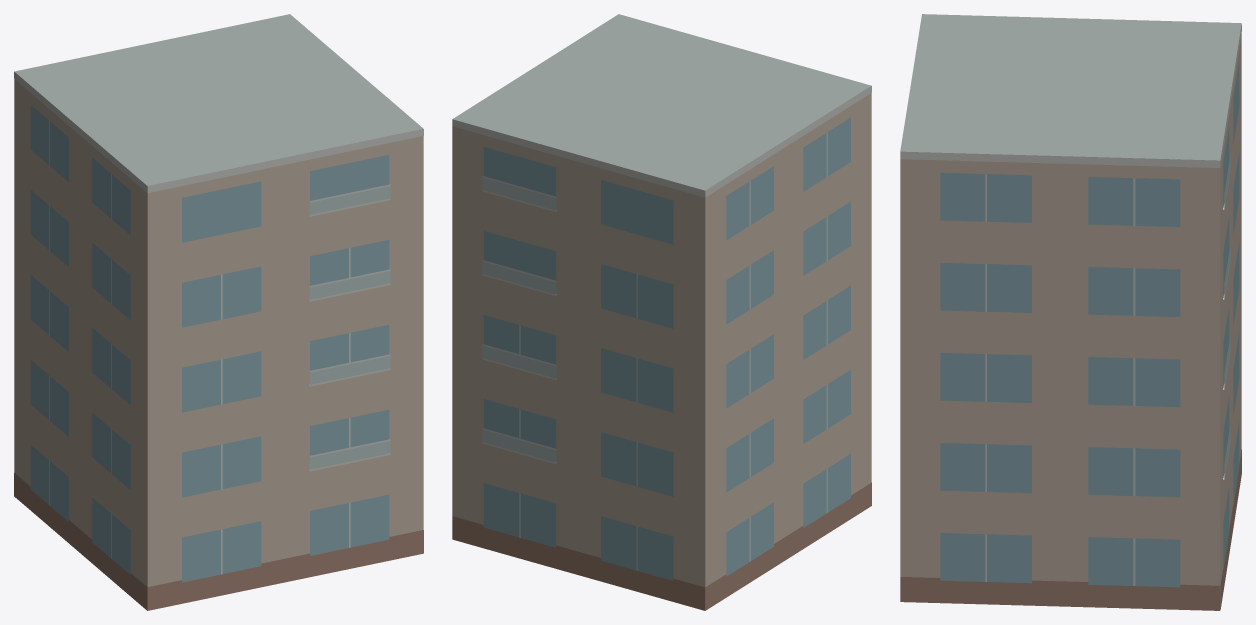
Rendered from survey-upis-32550521.glb.
3 views of the same model, side by side, from view 1: azimuth 30°, elevation 25°; view 2: azimuth 150°, elevation 25°; view 3: azimuth 270°, elevation 25° (orthographic). The views are drawn at different scales.
Visible parts, largest first — view 1: survey-upis-32550521.tmp; view 2: survey-upis-32550521.tmp; view 3: survey-upis-32550521.tmp.
Part boxes in pixels (<box>): survey-upis-32550521.tmp: <box>14,14,423,610</box>; survey-upis-32550521.tmp: <box>452,14,871,610</box>; survey-upis-32550521.tmp: <box>900,14,1241,610</box>.
Bounding box in the file's own units: 10.16 × 14.55 × 10.01.
